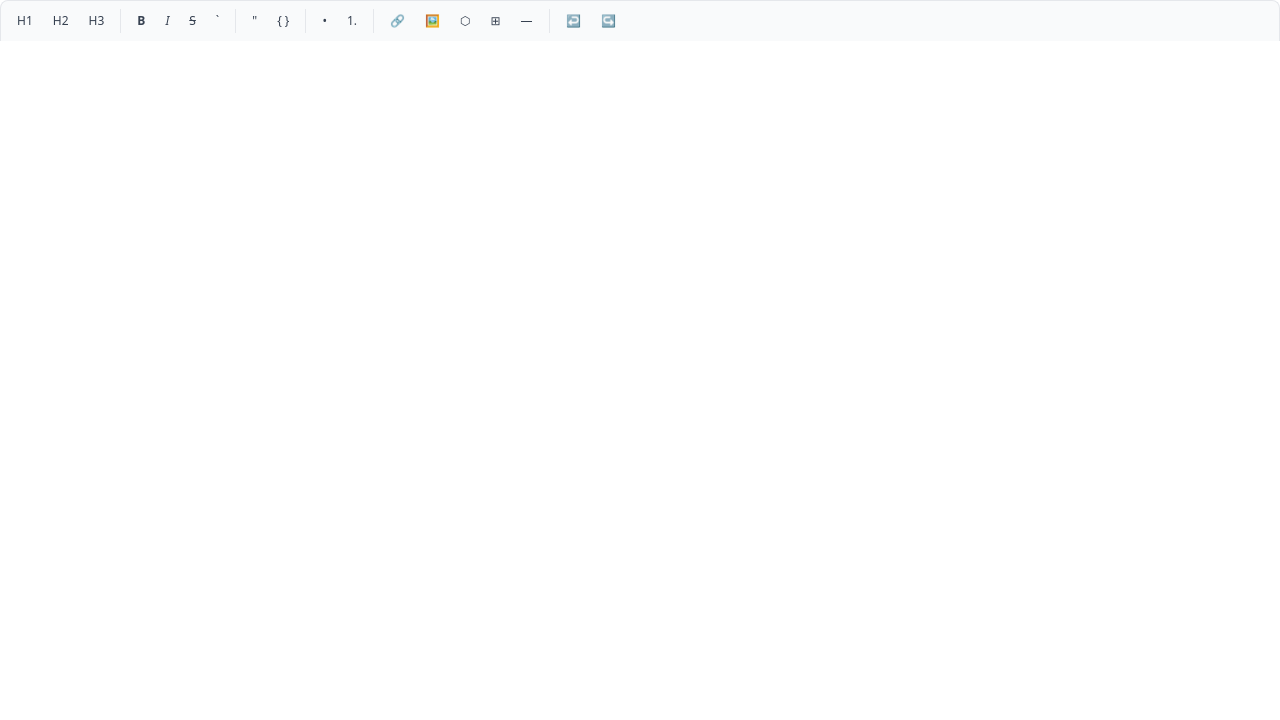
it: RichTextToolbar › Image button opens insert dialog
The width and height of the screenshot is (1280, 720).
What coordinates should you click on to do the following:
click the button titled "圖片"
I would click on:
 (432, 21)
Its box is [417,9,448,33].
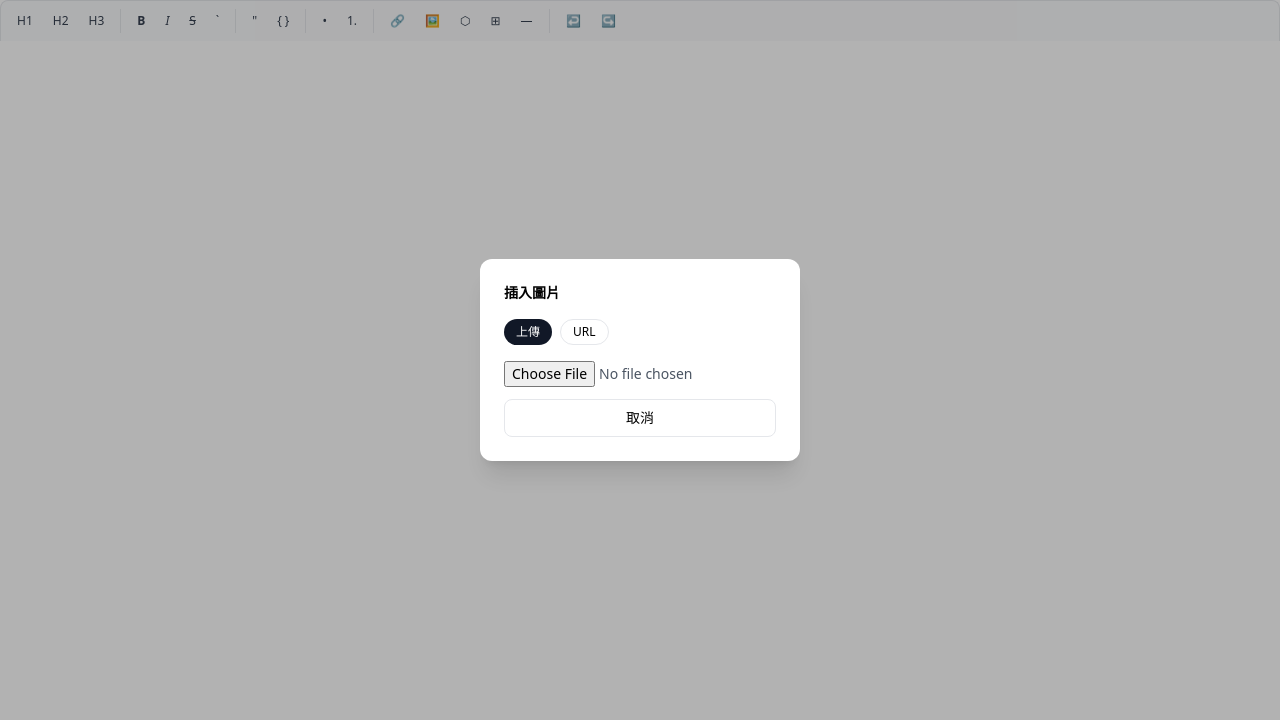
Expected: the heading "插入圖片" is shown, [504,283,560,302]
